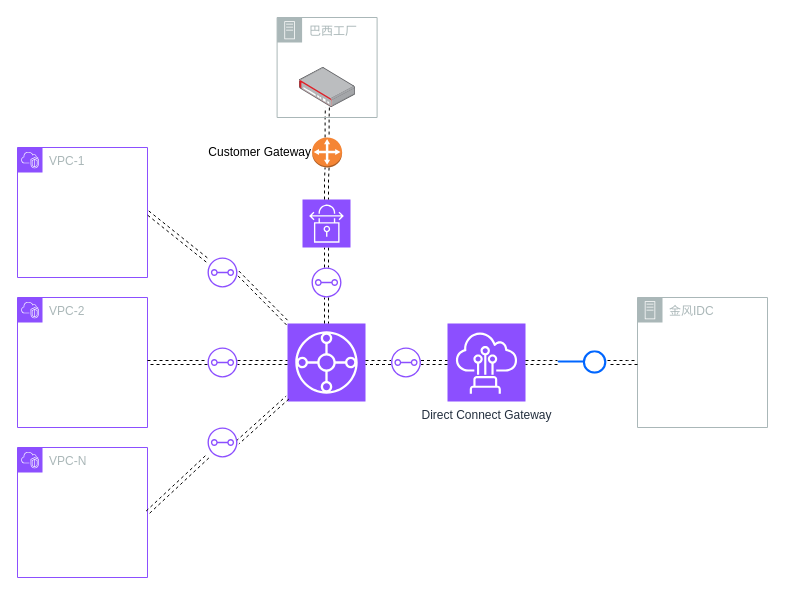
The diagram is 785 pixels wide and 595 high, and some of its shapes have lost their labels. Each missing label, with the centre of its shape:
Site-to-Site VPN: the point at 326,223
Transit Gateway: the point at 326,362
Transit VIF: the point at 582,362
